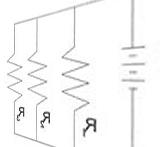resistor: (58, 36, 93, 112), (26, 43, 50, 107), (2, 48, 25, 101)
